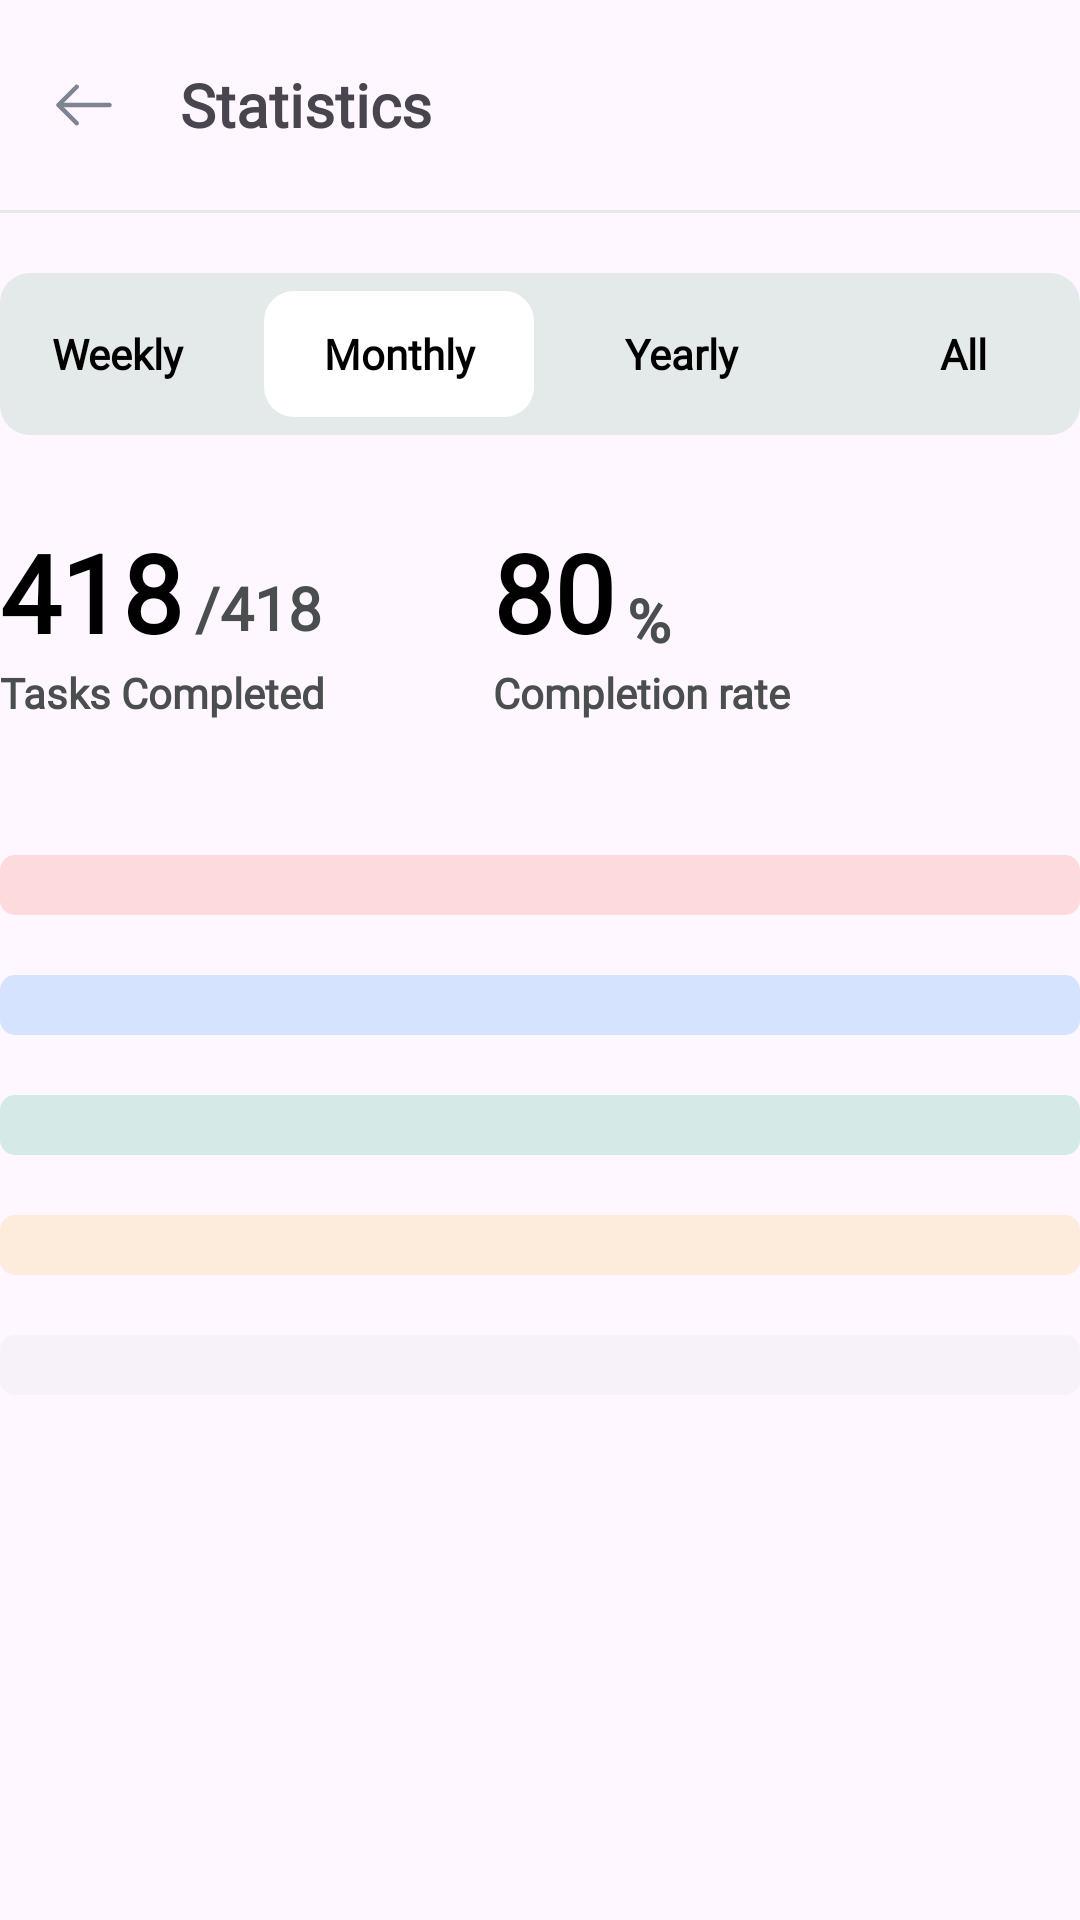

Named icons in this screenshot (1080 x 1920) and their bounding boxes, [x1,y1,x2,y2]:
arrow left: [56,84,112,126]
